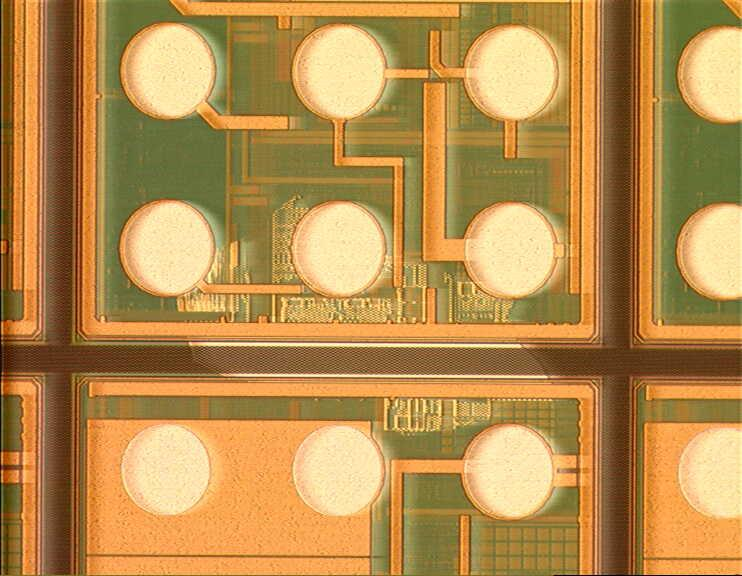BLOCK ETCH: (175, 191, 548, 439)
